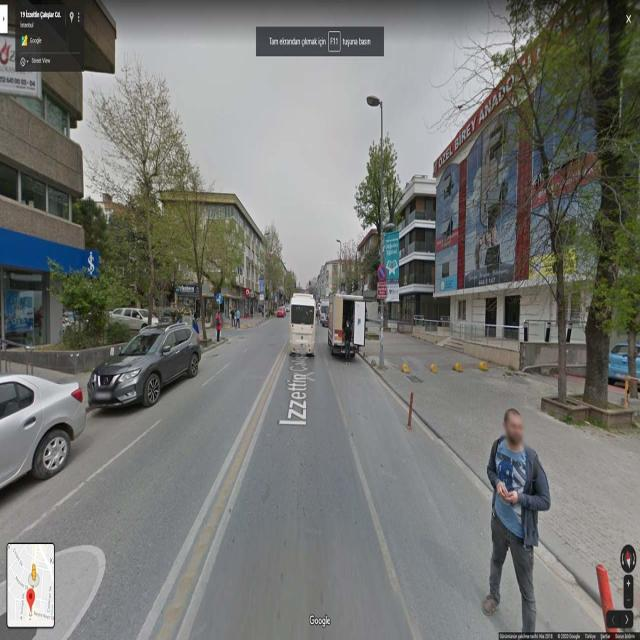parkyasak: (377, 263, 387, 282)
